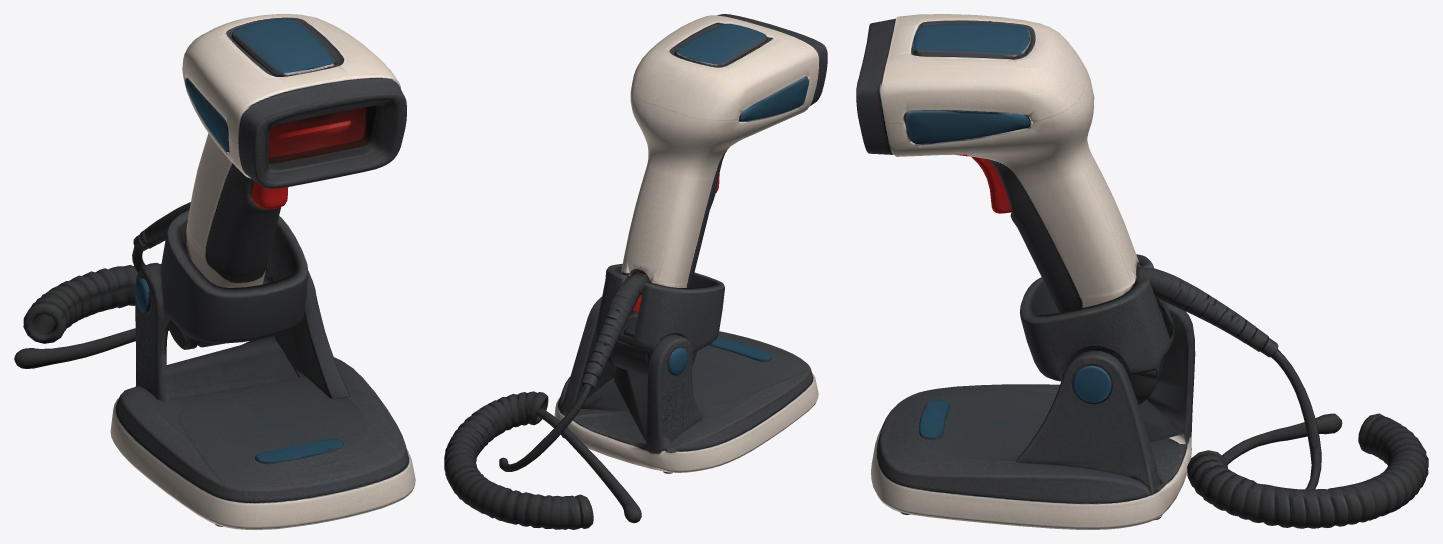
File: barcode_scanner_smart.glb
The picture shows the model from 3 angles, left to right: view 1: azimuth 30°, elevation 25°; view 2: azimuth 150°, elevation 25°; view 3: azimuth 270°, elevation 25°; orthographic projection. The views are drawn at different scales.
Visible parts, largest first — view 1: barcode_scanner_smart; view 2: barcode_scanner_smart; view 3: barcode_scanner_smart.
Part boxes in pixels (left/top/right/bottom): barcode_scanner_smart: left=14, top=14, right=415, bottom=529; barcode_scanner_smart: left=444, top=14, right=827, bottom=529; barcode_scanner_smart: left=856, top=14, right=1428, bottom=529.
Size of what is drawn, in the model's own units: 0.0896 by 0.1429 by 0.17.
Materials: 1 (1 with a texture image).
